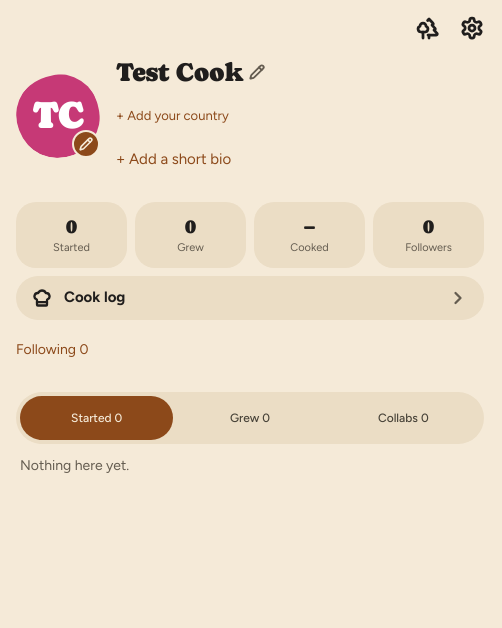
Test: OwnProfile Organic layout (RL-095) › toggles the followers list from its stat tile
Click the button "0 Followers" at {"x": 428, "y": 235}, box [373, 202, 484, 268]
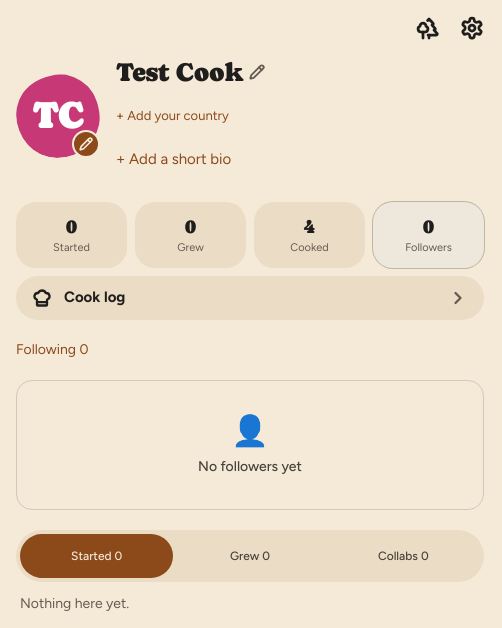
Check: the button "0 Followers" is expanded
Check: the text "No followers yet" is shown, box [198, 457, 302, 477]
Click the button "0 Followers" at {"x": 428, "y": 235}, box [373, 202, 484, 268]
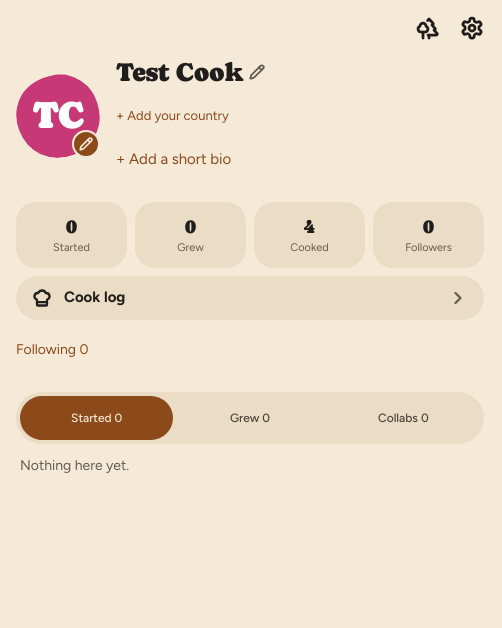
Check: the text "No followers yet" is gone
